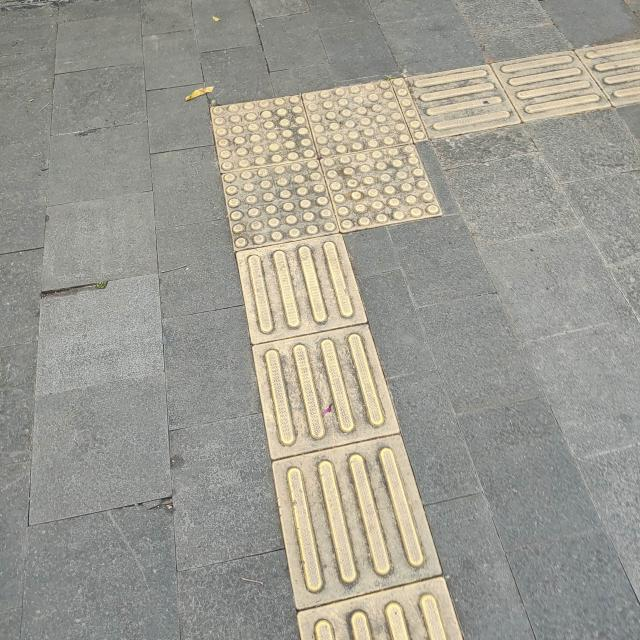kanan: (160, 15, 640, 301)
